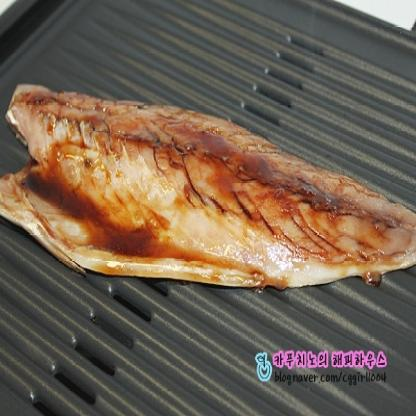Peixe: (17, 78, 416, 304)
